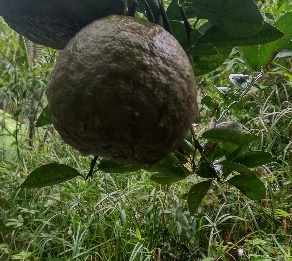Cam: (42, 13, 201, 167)
